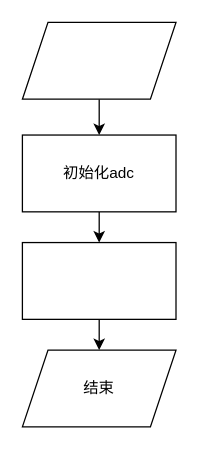
The diagram is 198 pixels wide and 449 high, and some of its shapes have lost their labels. The centre of each missing label's shape, as x and y in pixels:
开始: pixel 98 60
转换溶解CO2的ppm数值: pixel 98 280
